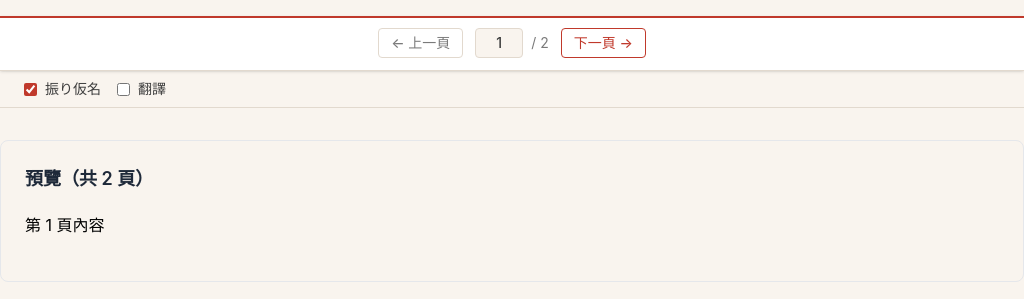
PagedPreview › 最後一頁時「下一頁」按鈕 disabled
The image size is (1024, 299).
Click the button "下一頁 →" at point(603, 43), box [561,28,646,58]
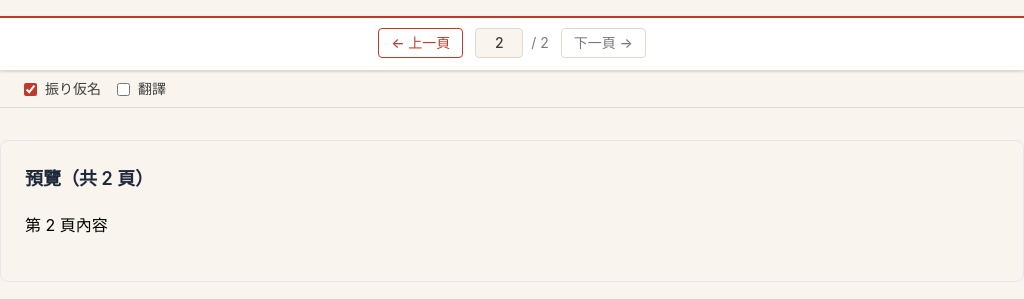
Expected: the button "下一頁 →" is disabled, [561,28,646,58]
